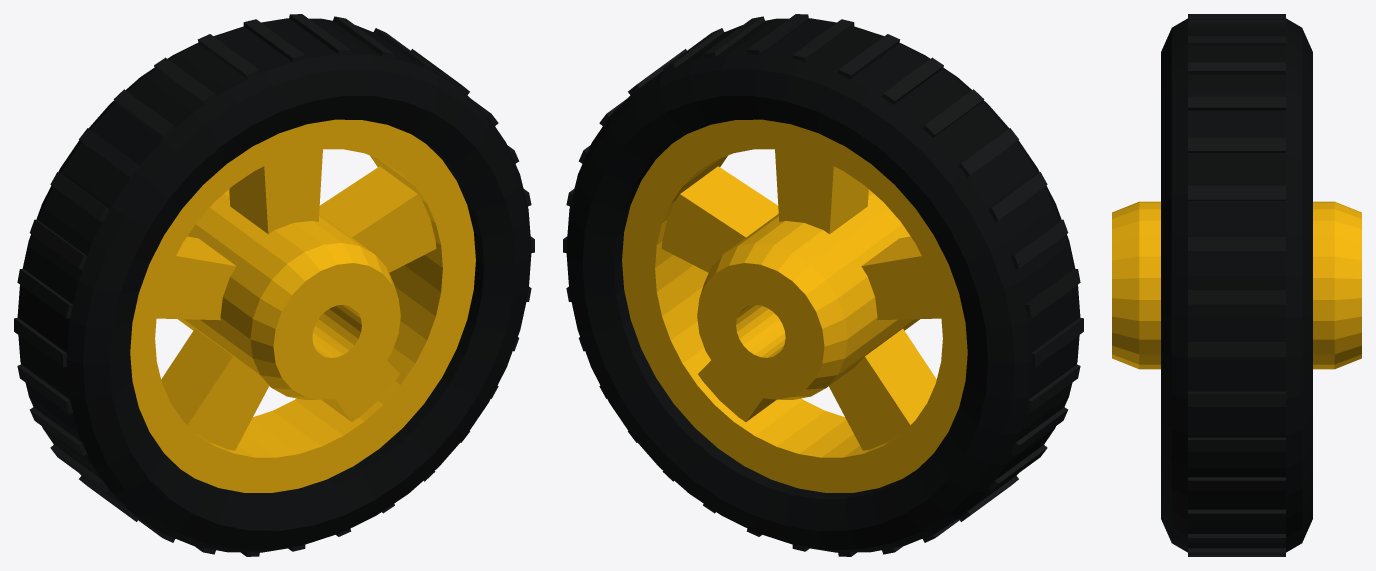
File: wheel_ghost.obj
3 views of the same model, side by side, from view 1: azimuth 30°, elevation 25°; view 2: azimuth 150°, elevation 25°; view 3: azimuth 270°, elevation 25° (orthographic).
Parts seen in each view (by area): view 1: wheel_ghost; view 2: wheel_ghost; view 3: wheel_ghost.
Boxes of the visible parts, box(x1,y1,x2,y2) form: wheel_ghost: box(14, 14, 534, 556); wheel_ghost: box(563, 14, 1083, 556); wheel_ghost: box(1112, 14, 1361, 556).
Size of the model in its own units: 2 by 2 by 0.92.
